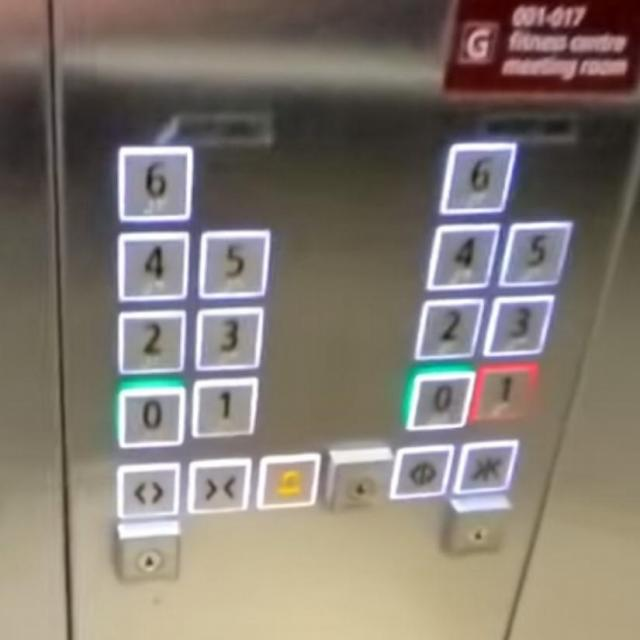0: (392, 359, 480, 439), (110, 376, 189, 455)
1: (463, 357, 545, 431), (186, 372, 260, 440)
2: (408, 290, 486, 367), (107, 306, 188, 379)
3: (479, 290, 557, 362), (190, 304, 266, 373)
4: (416, 218, 500, 298), (111, 225, 192, 303)
5: (194, 225, 272, 305), (496, 215, 576, 293)
6: (433, 133, 517, 225), (111, 141, 198, 226)
alarm: (256, 453, 321, 514)
bt_keyhole: (110, 518, 185, 586), (322, 446, 393, 516), (441, 495, 514, 556)
close: (449, 437, 522, 500), (185, 455, 256, 517)
open: (383, 438, 455, 502), (114, 461, 182, 522)
